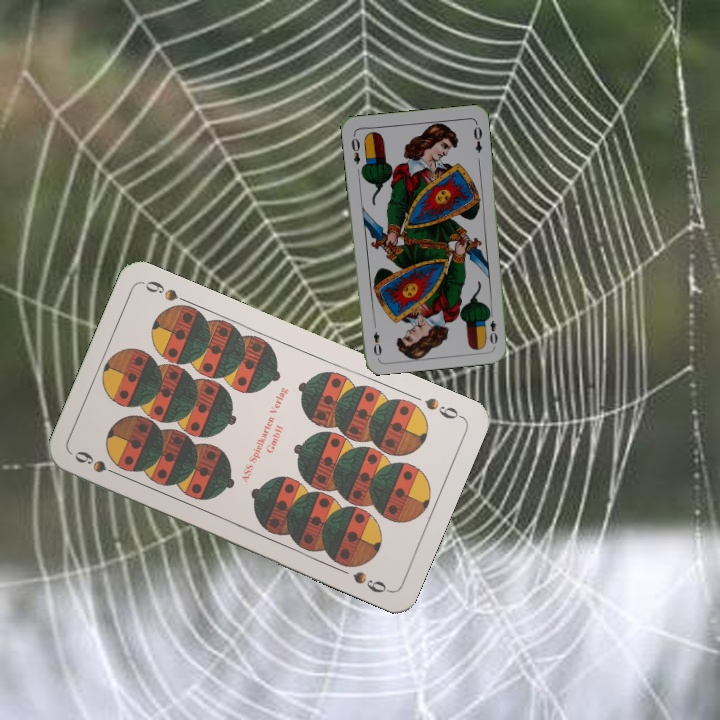EO: (483, 307, 500, 347), (347, 131, 363, 167)
S9: (70, 446, 126, 480), (421, 393, 465, 422)
